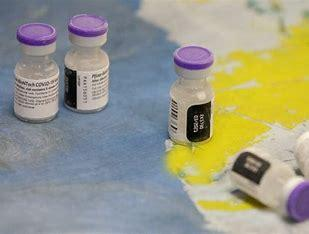Syringe: (164, 37, 217, 150), (12, 18, 60, 127), (66, 10, 112, 123)
